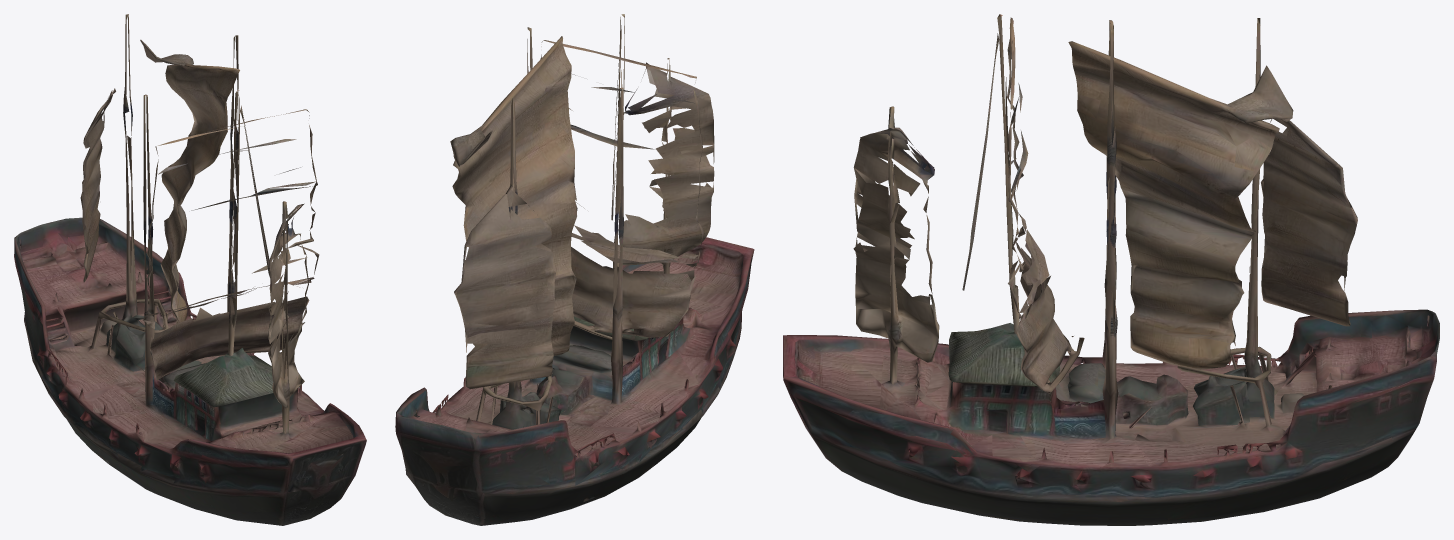
The model's file is thuyen-xiem.glb.
3 views of the same model, side by side, from view 1: azimuth 30°, elevation 25°; view 2: azimuth 150°, elevation 25°; view 3: azimuth 270°, elevation 25° (orthographic). The views are drawn at different scales.
Visible parts, largest first — view 1: Thuyen_Xiem_WEB; view 2: Thuyen_Xiem_WEB; view 3: Thuyen_Xiem_WEB.
Boxes of the visible parts, box(x1,y1,x2,y2) form: Thuyen_Xiem_WEB: box(14, 14, 366, 525); Thuyen_Xiem_WEB: box(395, 14, 754, 525); Thuyen_Xiem_WEB: box(783, 14, 1439, 525).
Bounding box in the file's own units: 8.77 × 18.3 × 21.99.
Materials: 1 (1 with a texture image).
